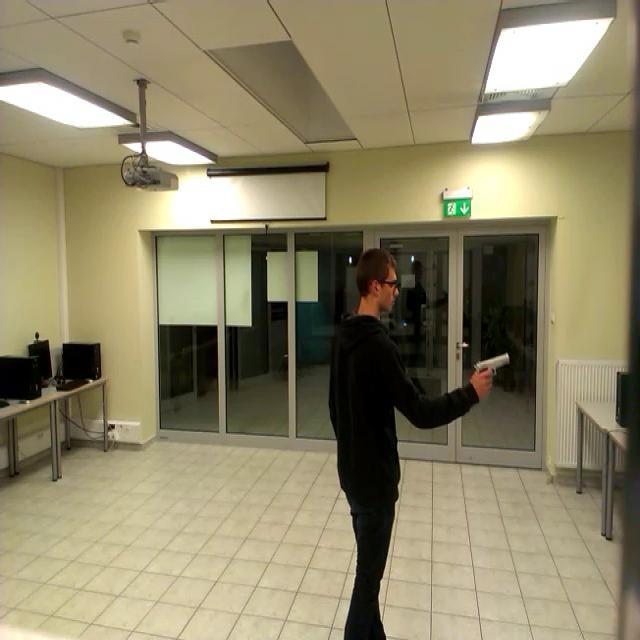Gun: (472, 352, 508, 388)
